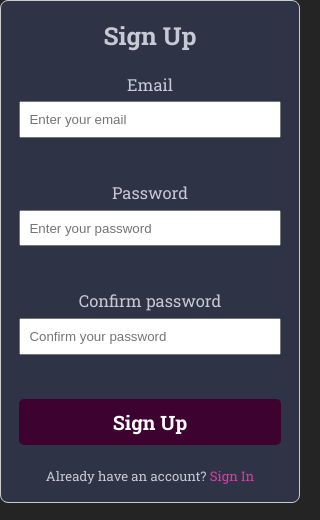
Test case: SignUp component › displays validation error for mismatched passwords
This screenshot has width=320, height=520.
Type "password123" into the password field labelled "Password" at (150, 228), box [19,210,281,246]
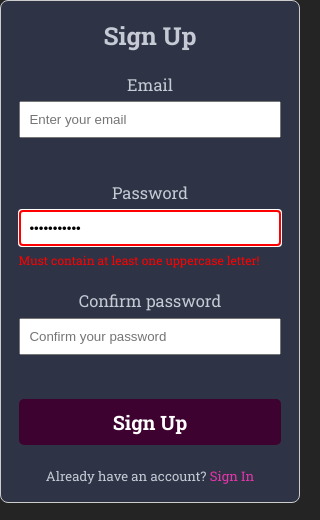
Type "differentpassword" into the password field labelled "Confirm password" at (150, 336), box [19,318,281,355]
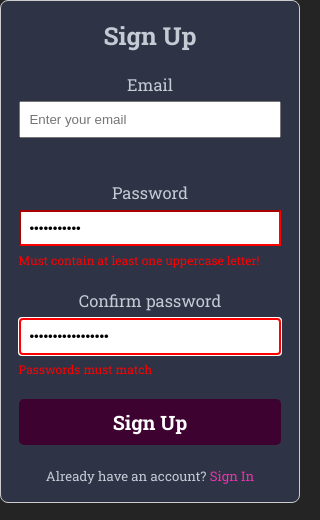
Check: the text "Passwords must match" is shown, box [19,361,152,377]
